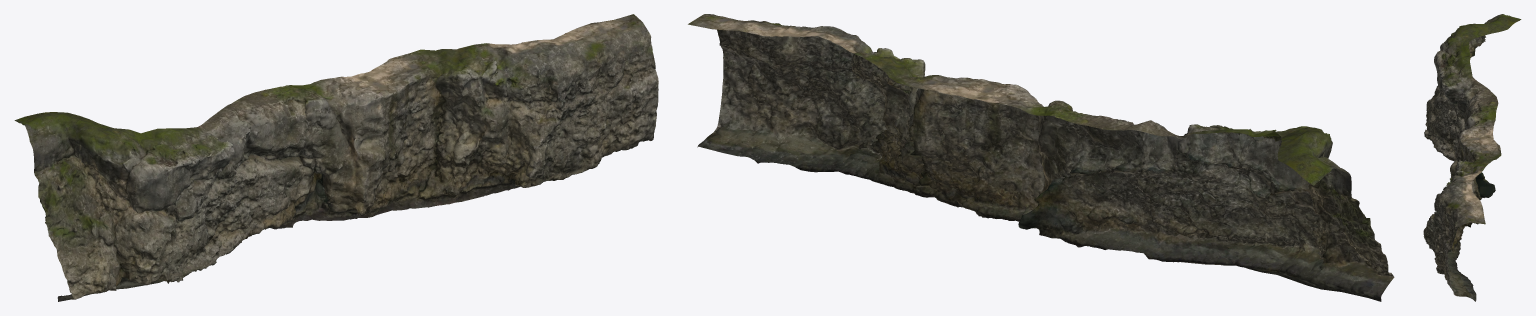
The model's file is coastal_cliff_02.glb.
3 views of the same model, side by side, from view 1: azimuth 30°, elevation 25°; view 2: azimuth 150°, elevation 25°; view 3: azimuth 270°, elevation 25° (orthographic). The views are drawn at different scales.
Parts seen in each view (by area): view 1: coastal_cliff_02_LOD0; view 2: coastal_cliff_02_LOD0; view 3: coastal_cliff_02_LOD0.
Boxes of the visible parts, box(x1,y1,x2,y2) form: coastal_cliff_02_LOD0: box(14, 14, 658, 301); coastal_cliff_02_LOD0: box(688, 14, 1394, 301); coastal_cliff_02_LOD0: box(1423, 14, 1521, 301).
Bounding box in the file's own units: 40.93 × 10.05 × 8.65.
1 material, 1 textured.
